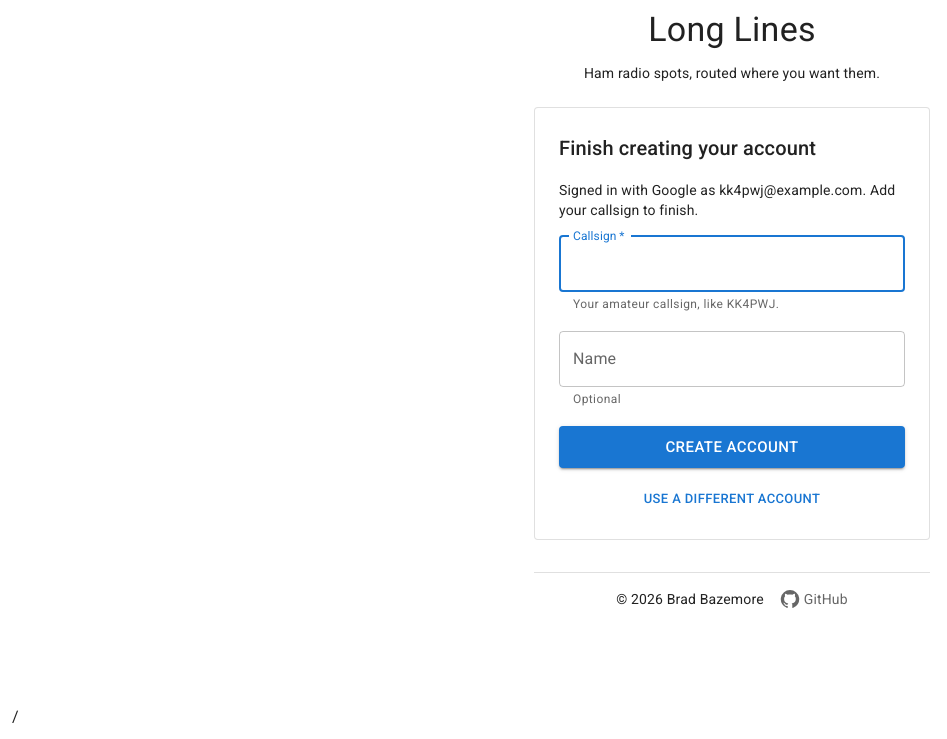
Test: CompleteProfilePage › shows SQL's refusal and lets the user try another callsign
Step 1. Type "W1AW" into the field labelled "Callsign *" → [732, 264], box [559,236,905,292]
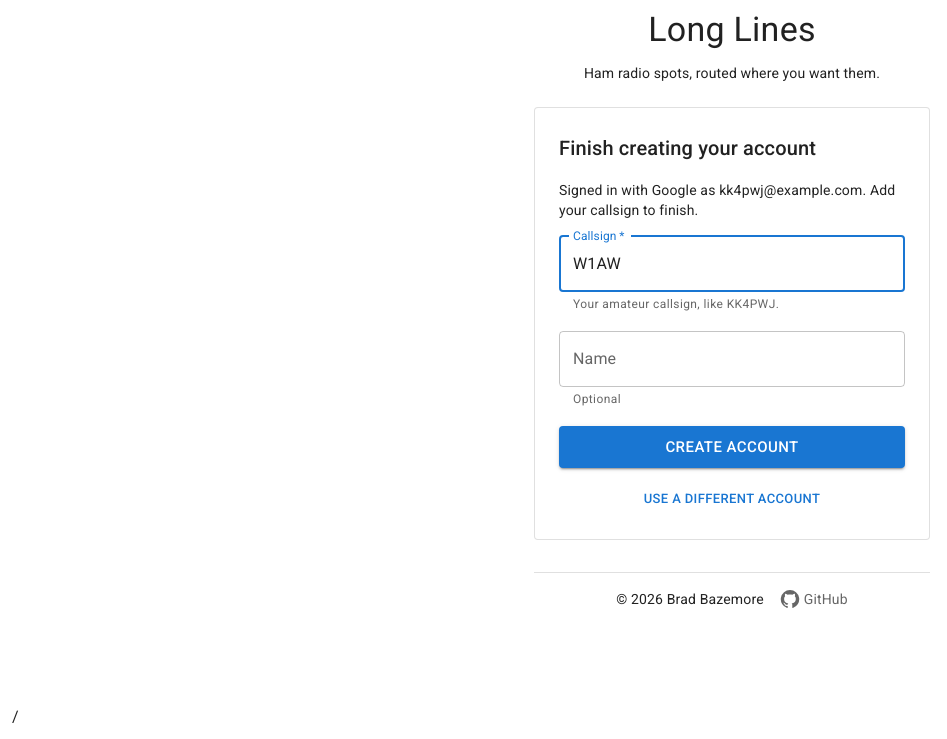
Step 2. Click the button "Create account" → [732, 447], box [559,426,905,468]
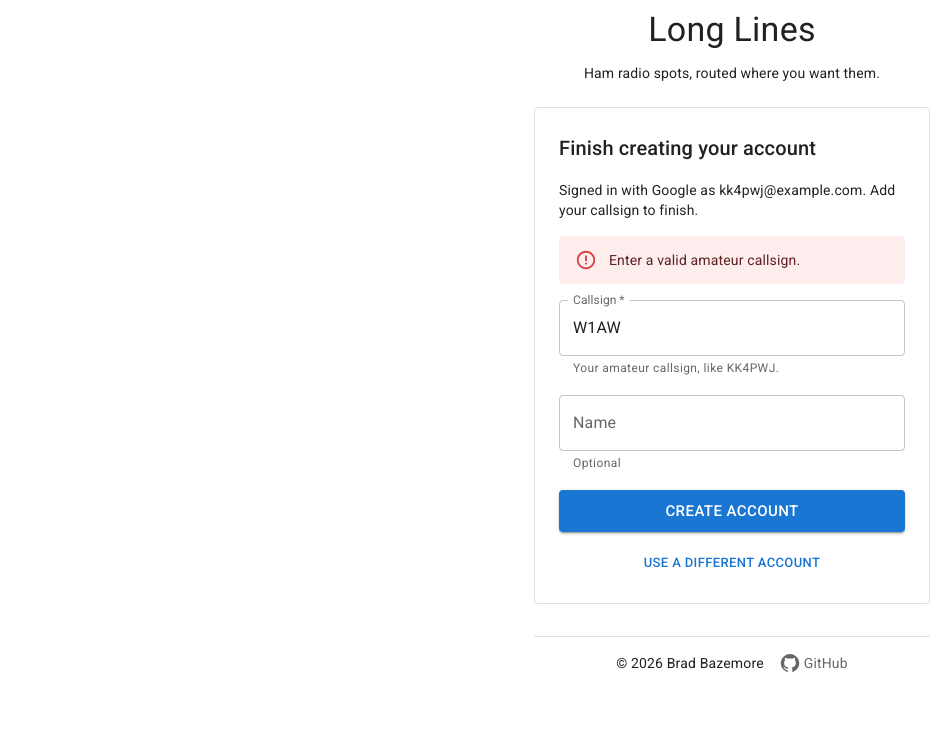
Expected: the button "Create account" is enabled, [559,490,905,532]
Result: the text "Enter a valid amateur callsign." is shown at [609,252,800,268]
